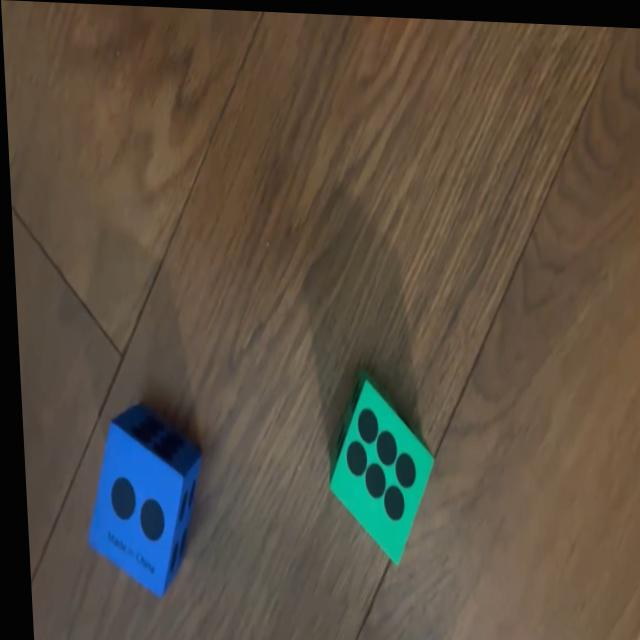cube: (75, 407, 203, 598), (317, 363, 433, 563)
